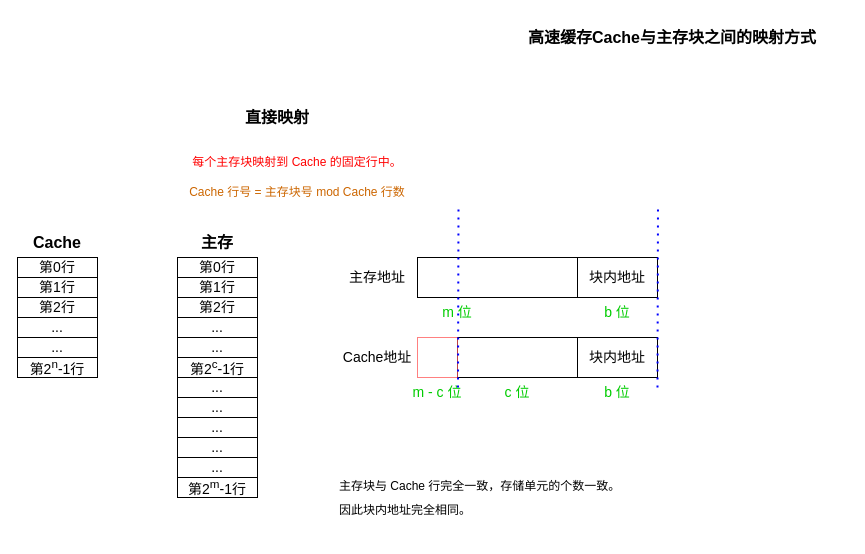
Some shapes in this 865 by 554 pixel diagram are drawn without their labels. Each missing label, with the centre of its shape:
Cache 行号: the point at 517,357
tag: the point at 437,357
主存块号: the point at 497,277
